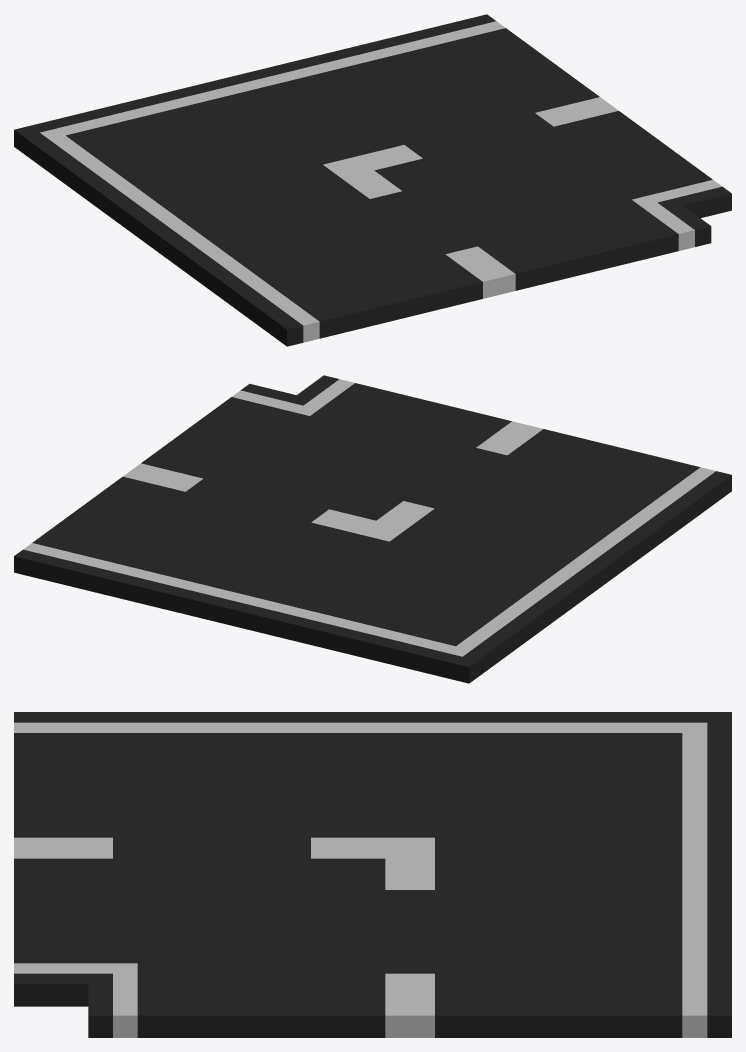
File: road-edgy-curve-1.gltf
The picture shows the model from 3 angles, top to bottom: view 1: azimuth 30°, elevation 25°; view 2: azimuth 150°, elevation 25°; view 3: azimuth 270°, elevation 25°; orthographic projection. The views are drawn at different scales.
Parts seen in each view (by area): view 1: road-edgy-curve-1; view 2: road-edgy-curve-1; view 3: road-edgy-curve-1.
Boxes of the visible parts, bbox=[...] form: road-edgy-curve-1: bbox=[14, 14, 731, 346]; road-edgy-curve-1: bbox=[14, 375, 731, 683]; road-edgy-curve-1: bbox=[14, 712, 731, 1037].
Size of the model in its own units: 2.9 by 0.1 by 2.9.
1 material, 1 textured.
